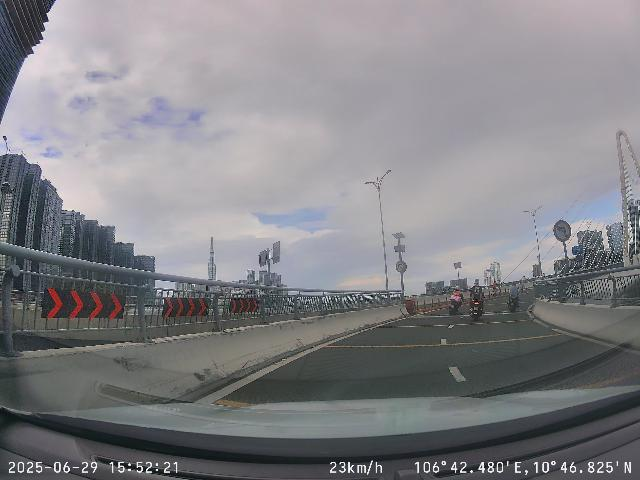123a-cam-re-trai: (553, 220, 572, 242)
123b-cam-re-phai: (395, 261, 405, 272)
